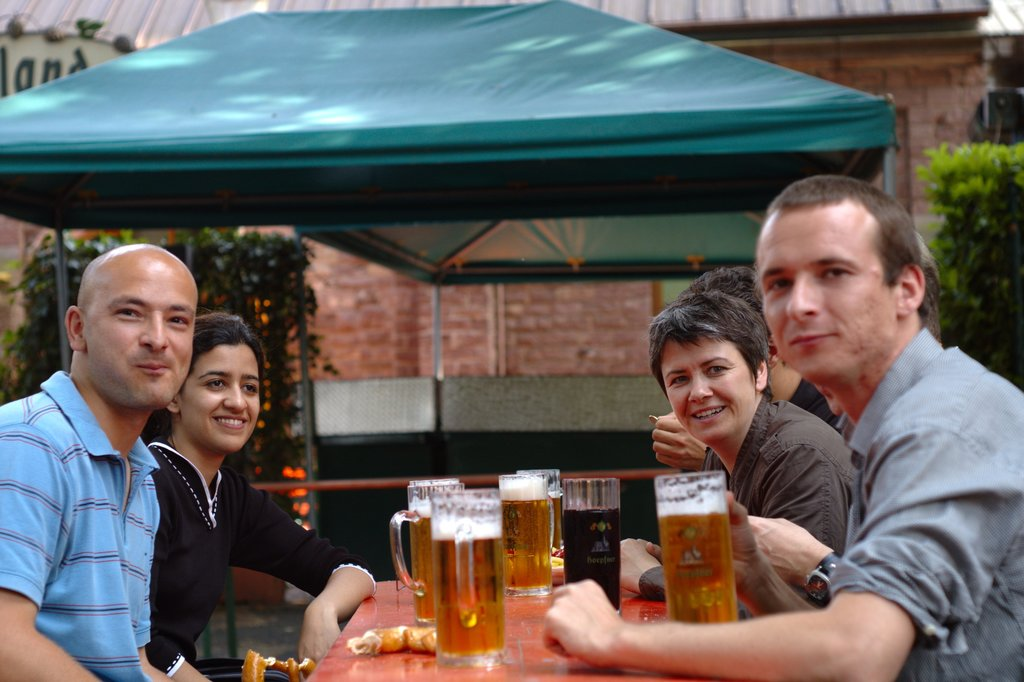Beer: (656, 495, 741, 626), (438, 531, 503, 658), (503, 494, 545, 590), (410, 512, 434, 620)
